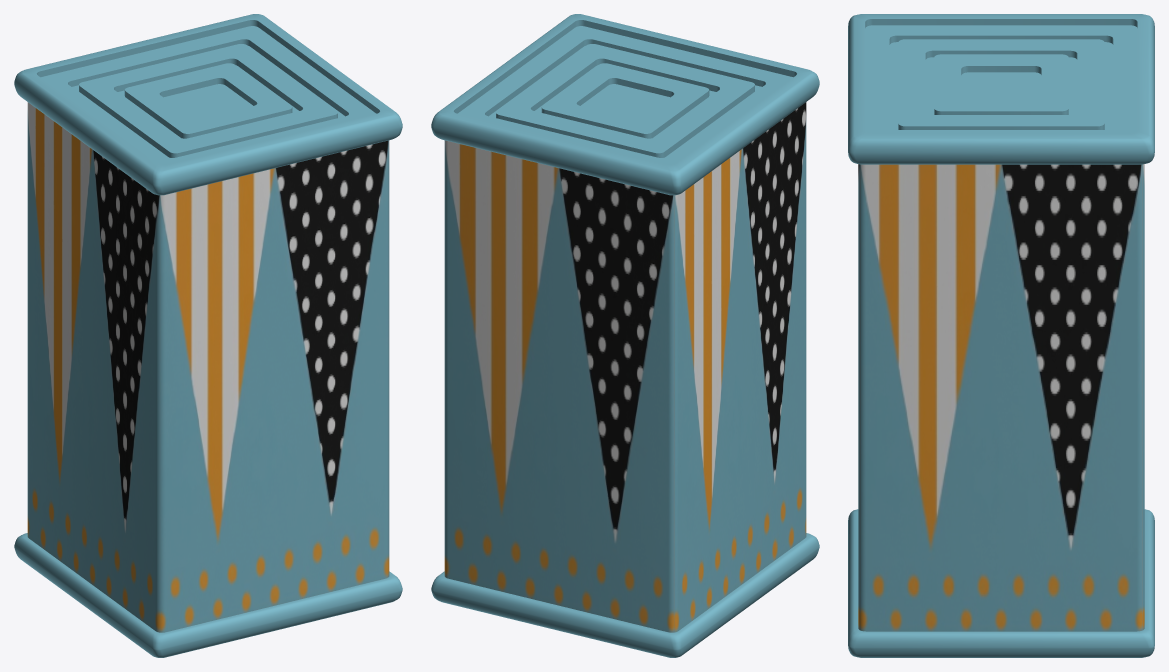
File: CarnivalTinBox.fbx
The picture shows the model from 3 angles, left to right: view 1: azimuth 30°, elevation 25°; view 2: azimuth 150°, elevation 25°; view 3: azimuth 270°, elevation 25°; orthographic projection. The views are drawn at different scales.
Parts seen in each view (by area): view 1: Cube; view 2: Cube; view 3: Cube.
Part boxes in pixels (x1=…): Cube: x1=14, y1=14, x2=402, y2=657; Cube: x1=431, y1=14, x2=819, y2=657; Cube: x1=848, y1=14, x2=1154, y2=657.
Size of the model in its own units: 2.14 by 4 by 2.14.
2 materials, 2 textured.
